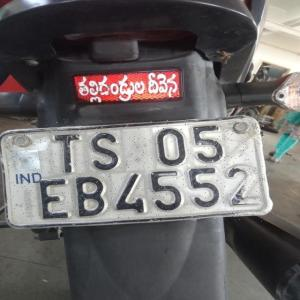Plate: (7, 120, 263, 221)
